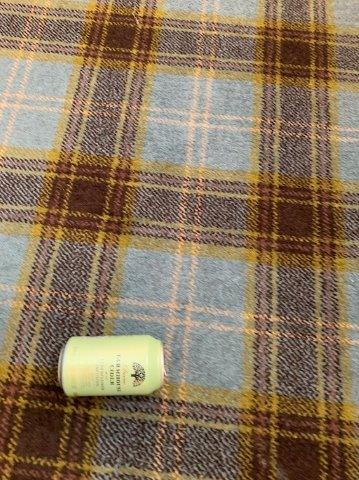kaleng: (57, 336, 165, 397)
